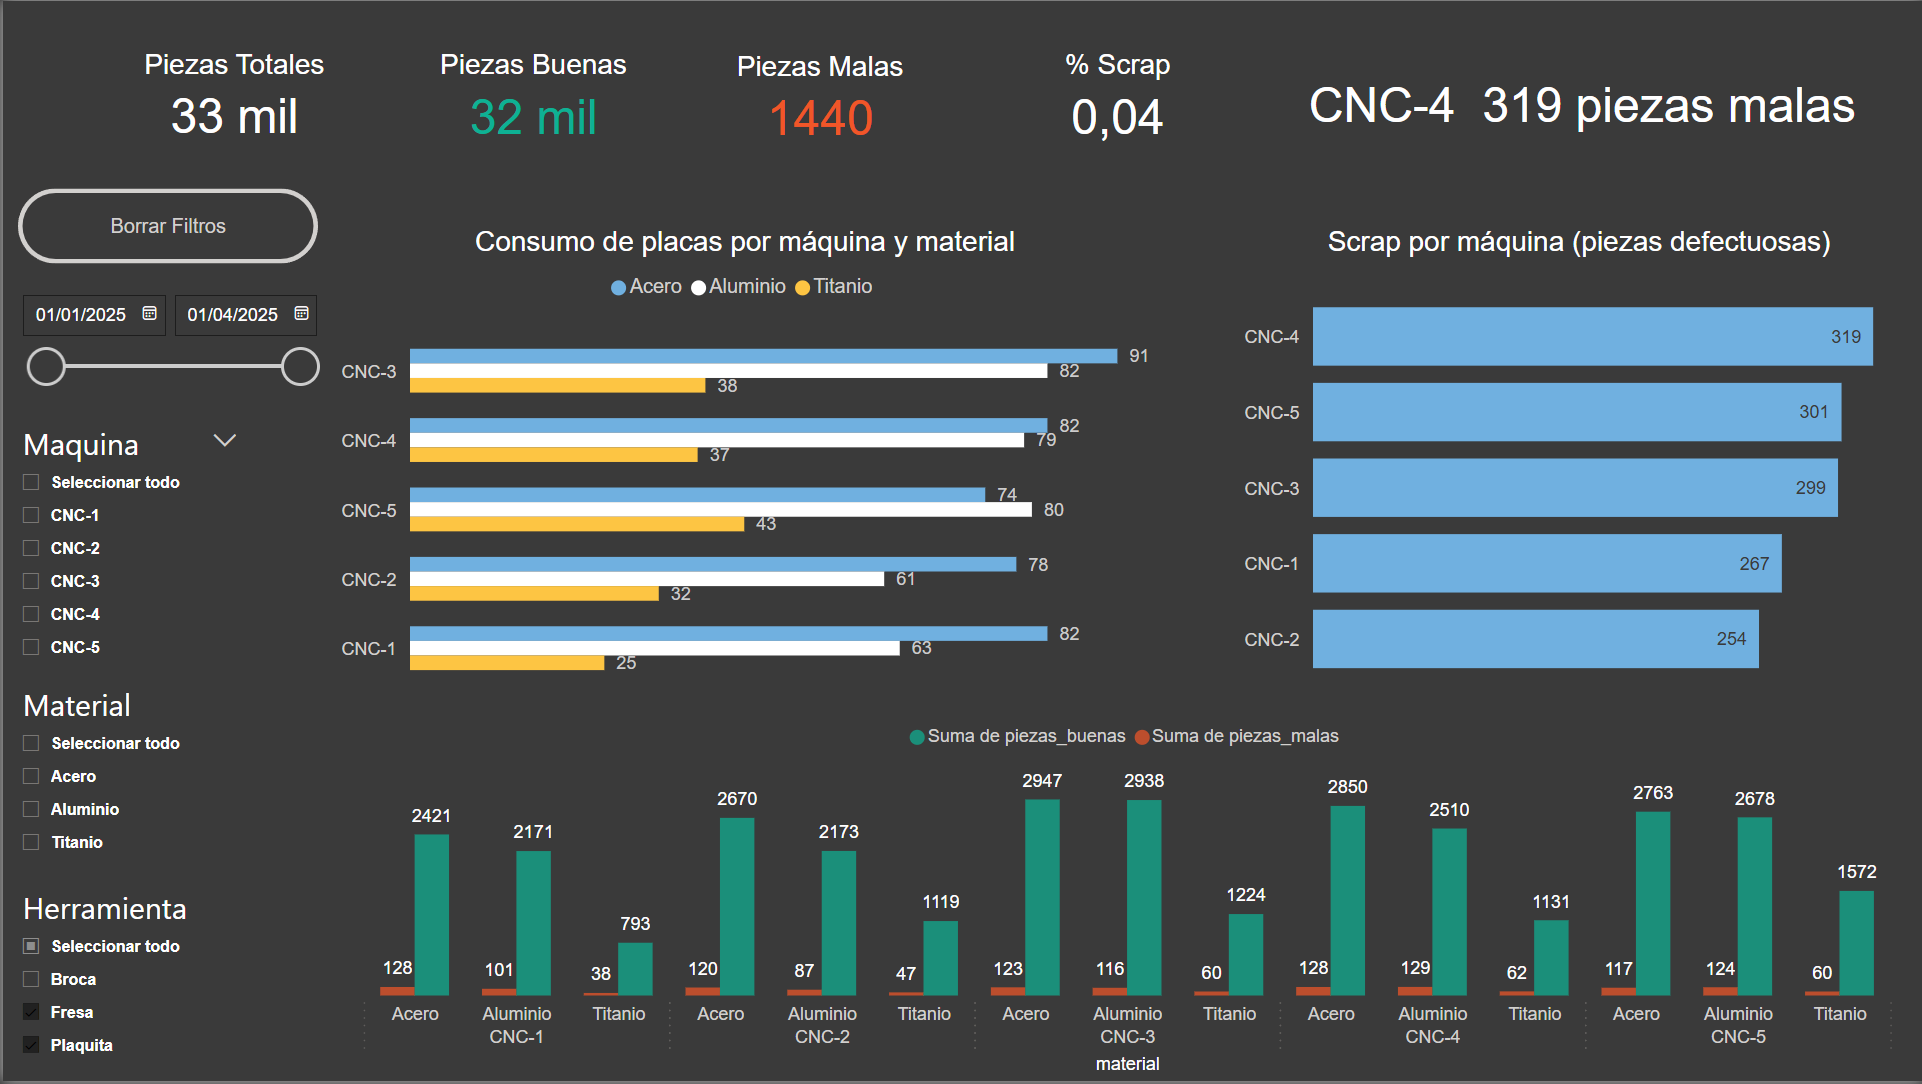

The page's visual inventory and layout, read from the dashboard file:
{"tool":"powerbi","page":{"name":"Página 1","canvas":[1280,720],"ordinal":0},"visuals":[{"type":"clusteredColumnChart","fields":{"Category":["dim_maquinas.nombre_maquina","dim_piezas.material"],"Y":["Sum(fact_produccion.piezas_buenas)","Sum(fact_produccion.piezas_malas)"]},"box":[219,471,1061,249],"z":0},{"type":"slicer","title":"Tipo de herramienta","fields":{"Values":["dim_herramientas.tipo_herramienta"]},"box":[10,471,168,64],"z":1000},{"type":"slicer","title":"Nombre de maquina","fields":{"Values":["dim_maquinas.nombre_maquina"]},"box":[10,276,168,78],"z":2000},{"type":"slicer","fields":{"Values":["dim_piezas.material"]},"box":[10,370,168,72],"z":3000},{"type":"actionButton","box":[10,125,200,50],"z":4000},{"type":"card","title":"Piezas Totales","fields":{"Values":["fact_produccion.Piezas Totales"]},"box":[56.7,31.5,194.5,67.7],"z":5000},{"type":"card","title":"Piezas Buenas","fields":{"Values":["Sum(fact_produccion.piezas_buenas)"]},"box":[251,32,205,67.7],"z":6000},{"type":"card","title":"Piezas Malas","fields":{"Values":["Sum(fact_produccion.piezas_malas)"]},"box":[455.9,32.6,177.4,67],"z":7000},{"type":"card","title":"% Scrap","fields":{"Values":["fact_produccion.Scrap %"]},"box":[633.3,32,220.1,67.7],"z":8000},{"type":"barChart","title":"Scrap por máquina (piezas defectuosas)","fields":{"Category":["dim_maquinas.nombre_maquina"],"Y":["fact_produccion.Scrap por pieza"]},"box":[821,150,459,321],"z":9000},{"type":"clusteredBarChart","title":"Consumo de placas por máquina y material","fields":{"Y":["Sum(fact_produccion.placas_usadas)"],"Category":["dim_maquinas.nombre_maquina"],"Series":["dim_piezas.material"]},"box":[219,150,551,321],"z":10000},{"type":"card","title":"Maquina con mas Scrap","fields":{"Values":["fact_produccion.Máquina con más scrap"]},"box":[853,33,399,70],"z":11000},{"type":"slicer","fields":{"Values":["fact_produccion.fecha"]},"box":[0,186,219,90],"z":12000}]}

Visuals, with their boxes in screenshot pixels (x1, y1, x2, y2), scaled from the page's 1280x720 canvas onto the 1922x1084 screenshot:
clusteredColumnChart - dim_maquinas.nombre_maquina x dim_piezas.material: (329, 709, 1921, 1083)
"Tipo de herramienta" slicer: (15, 709, 267, 805)
"Nombre de maquina" slicer: (15, 416, 267, 533)
slicer - dim_piezas.material: (15, 557, 267, 665)
actionButton: (15, 188, 315, 263)
"Piezas Totales" card: (85, 47, 377, 149)
"Piezas Buenas" card: (377, 48, 685, 150)
"Piezas Malas" card: (685, 49, 951, 150)
"% Scrap" card: (951, 48, 1281, 150)
"Scrap por máquina (piezas defectuosas)" barChart: (1233, 226, 1921, 709)
"Consumo de placas por máquina y material" clusteredBarChart: (329, 226, 1156, 709)
"Maquina con mas Scrap" card: (1281, 50, 1880, 155)
slicer - fact_produccion.fecha: (0, 280, 329, 416)
